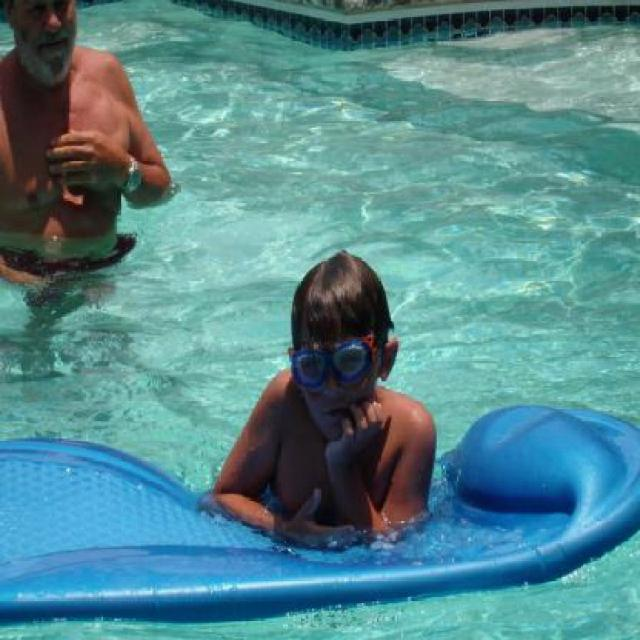face_nomask: (19, 1, 78, 62)
glasses: (293, 347, 389, 401)
hand_noglove: (322, 394, 396, 466), (41, 126, 108, 200), (285, 489, 358, 553)
head_nohelmet: (288, 248, 379, 310)
person: (213, 255, 436, 558), (0, 0, 151, 351)
